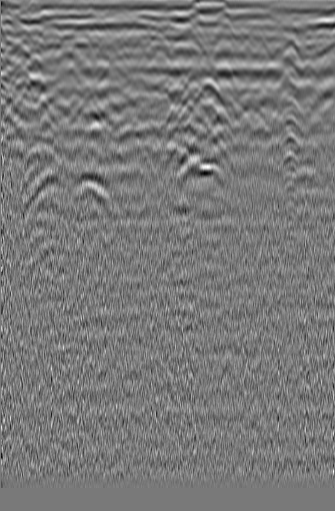상수: (274, 37, 307, 69)
오수: (0, 39, 36, 77)
우수: (147, 73, 184, 106)
